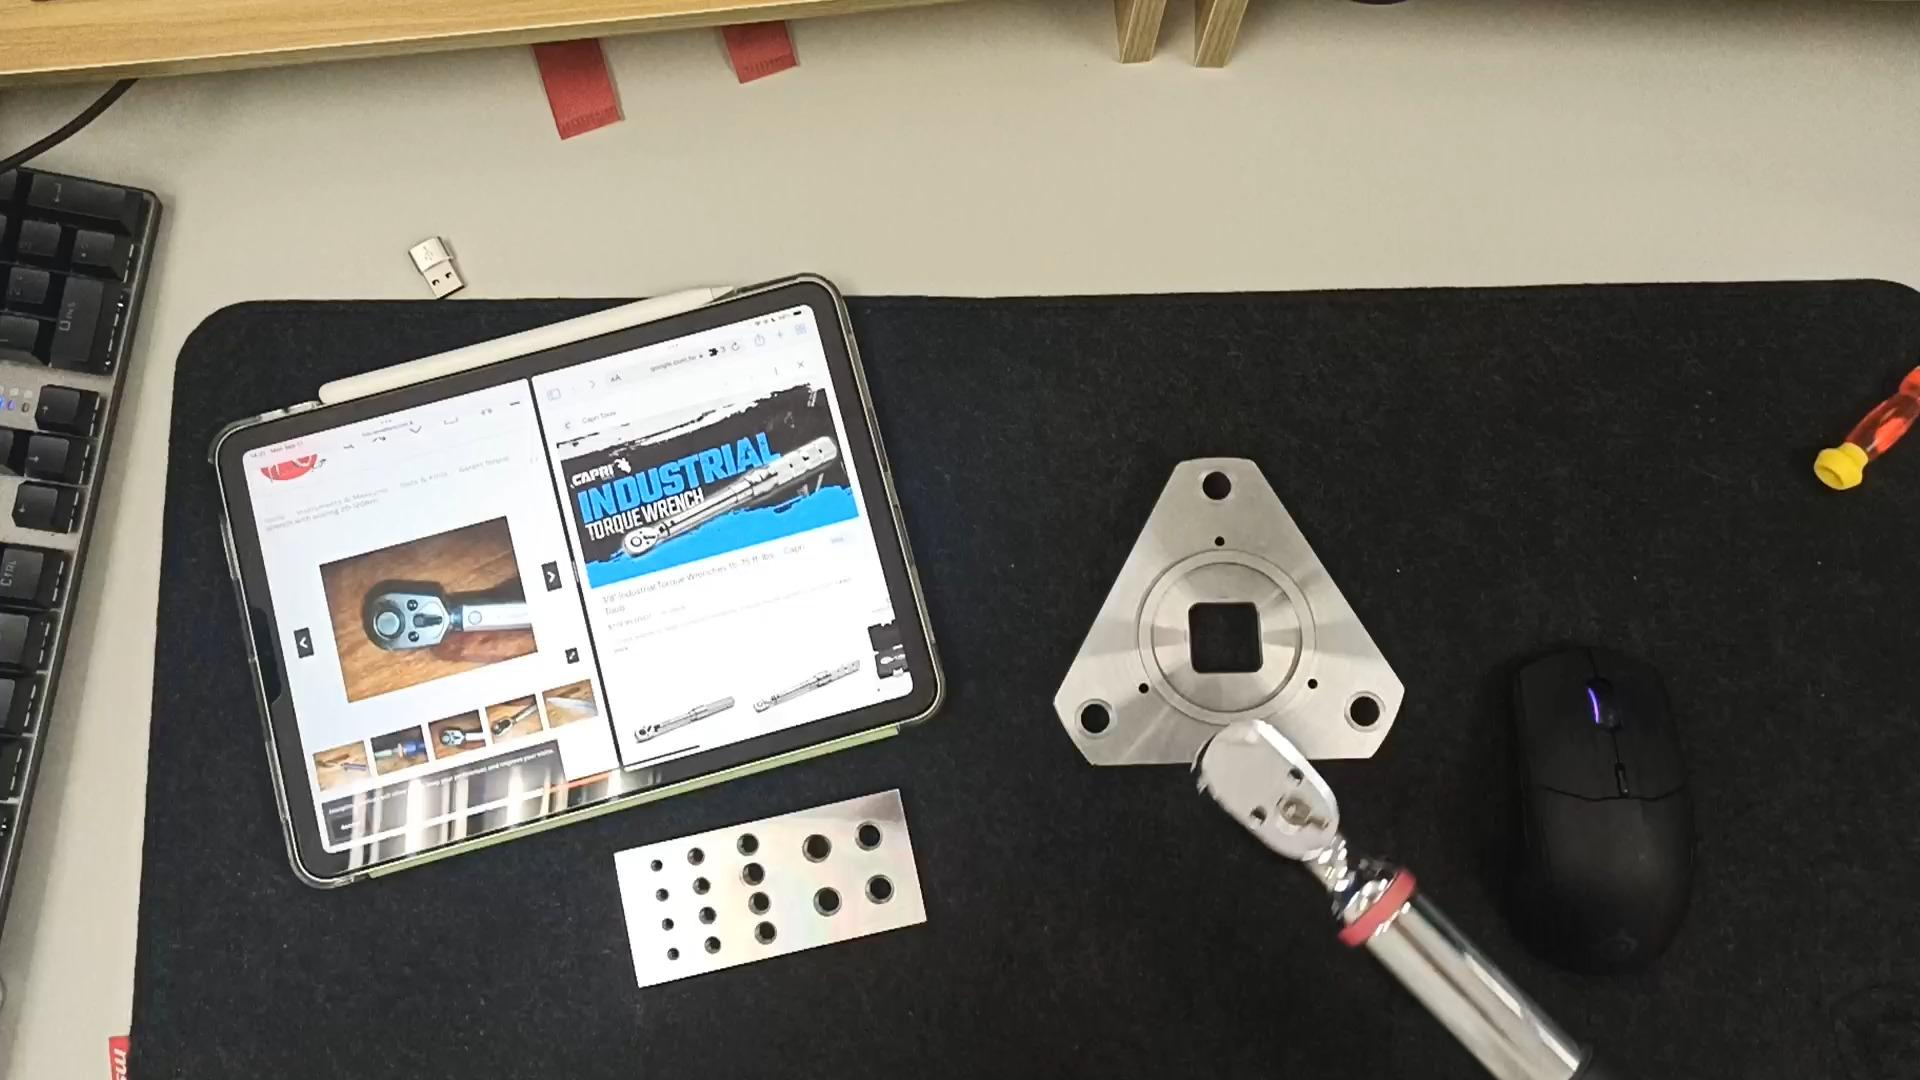Tool: (1197, 715, 1383, 913), (365, 582, 450, 653), (625, 520, 665, 562)
hole: (1326, 692, 1398, 740), (1177, 469, 1240, 510), (1062, 703, 1120, 745), (844, 877, 902, 914), (831, 826, 888, 859), (784, 836, 839, 869), (799, 884, 853, 917), (730, 861, 776, 888), (723, 835, 769, 862), (738, 889, 781, 915), (743, 922, 785, 947), (681, 848, 719, 869), (693, 908, 731, 929), (687, 876, 724, 896), (697, 936, 732, 954), (646, 858, 677, 875), (652, 885, 683, 902), (657, 917, 687, 934), (661, 945, 689, 960)
